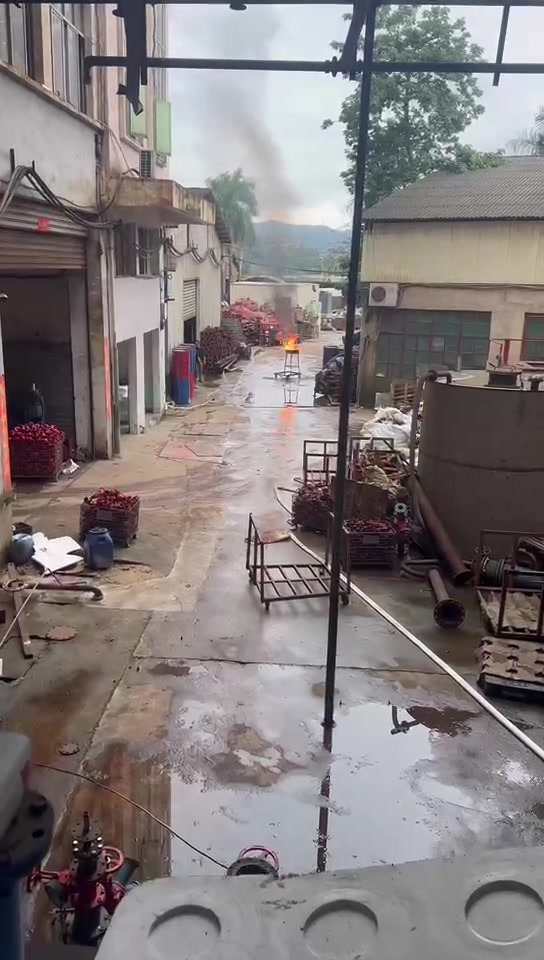fire: (276, 331, 300, 350)
